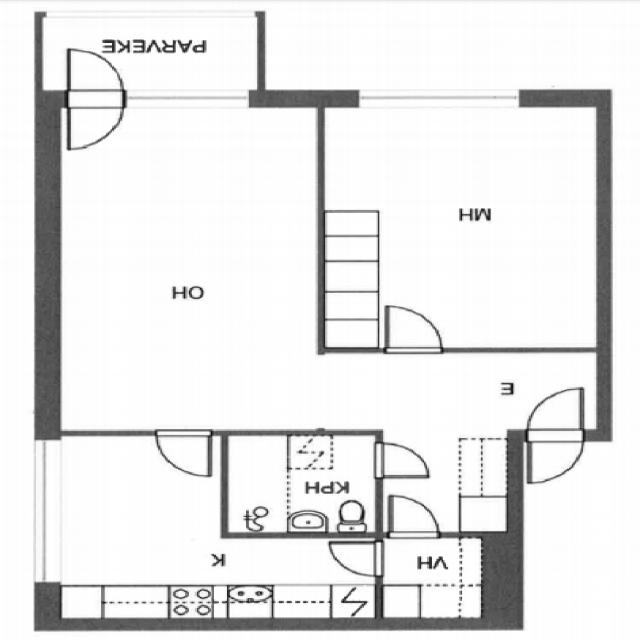door: (68, 90, 122, 148), (68, 49, 122, 107), (530, 388, 585, 441), (530, 430, 585, 483), (156, 429, 212, 476), (386, 306, 441, 352), (390, 496, 439, 538), (376, 443, 428, 478), (331, 542, 383, 576)
